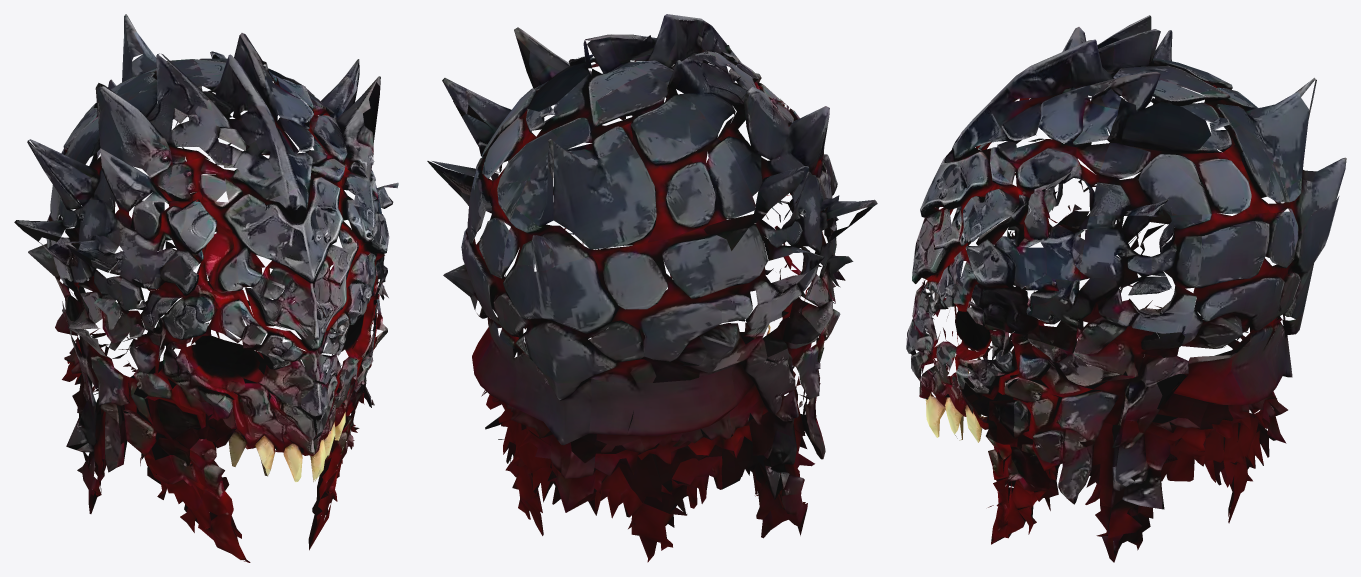
File: metamorfo-elmo.glb
The picture shows the model from 3 angles, left to right: view 1: azimuth 30°, elevation 25°; view 2: azimuth 150°, elevation 25°; view 3: azimuth 270°, elevation 25°; orthographic projection. The views are drawn at different scales.
Parts seen in each view (by area): view 1: tripo_node_33a49ff2-cd32-4f03-b520-776f035b996a; view 2: tripo_node_33a49ff2-cd32-4f03-b520-776f035b996a; view 3: tripo_node_33a49ff2-cd32-4f03-b520-776f035b996a.
Boxes of the visible parts, bbox=[...] form: tripo_node_33a49ff2-cd32-4f03-b520-776f035b996a: bbox=[14, 14, 398, 562]; tripo_node_33a49ff2-cd32-4f03-b520-776f035b996a: bbox=[427, 14, 877, 562]; tripo_node_33a49ff2-cd32-4f03-b520-776f035b996a: bbox=[906, 15, 1346, 562].
Bounding box in the file's own units: 0.7902 × 0.9807 × 0.7982.
1 material, 1 textured.
